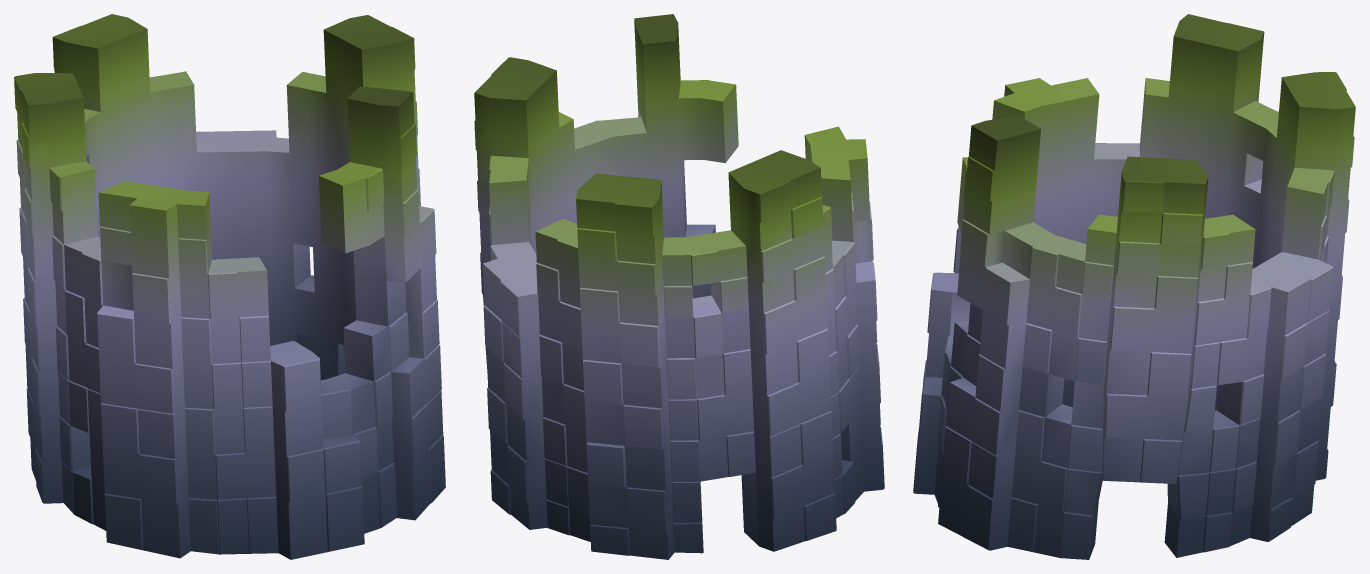
Rendered from FallenTower.fbx.
The picture shows the model from 3 angles, left to right: view 1: azimuth 30°, elevation 25°; view 2: azimuth 150°, elevation 25°; view 3: azimuth 270°, elevation 25°; orthographic projection. The views are drawn at different scales.
Parts seen in each view (by area): view 1: FallenTower; view 2: FallenTower; view 3: FallenTower.
Boxes of the visible parts, x1=… form: FallenTower: x1=14, y1=14, x2=445, y2=559; FallenTower: x1=474, y1=14, x2=884, y2=559; FallenTower: x1=913, y1=14, x2=1355, y2=559.
Size of the model in its own units: 938 by 1012 by 1019.
1 material, 1 textured.
